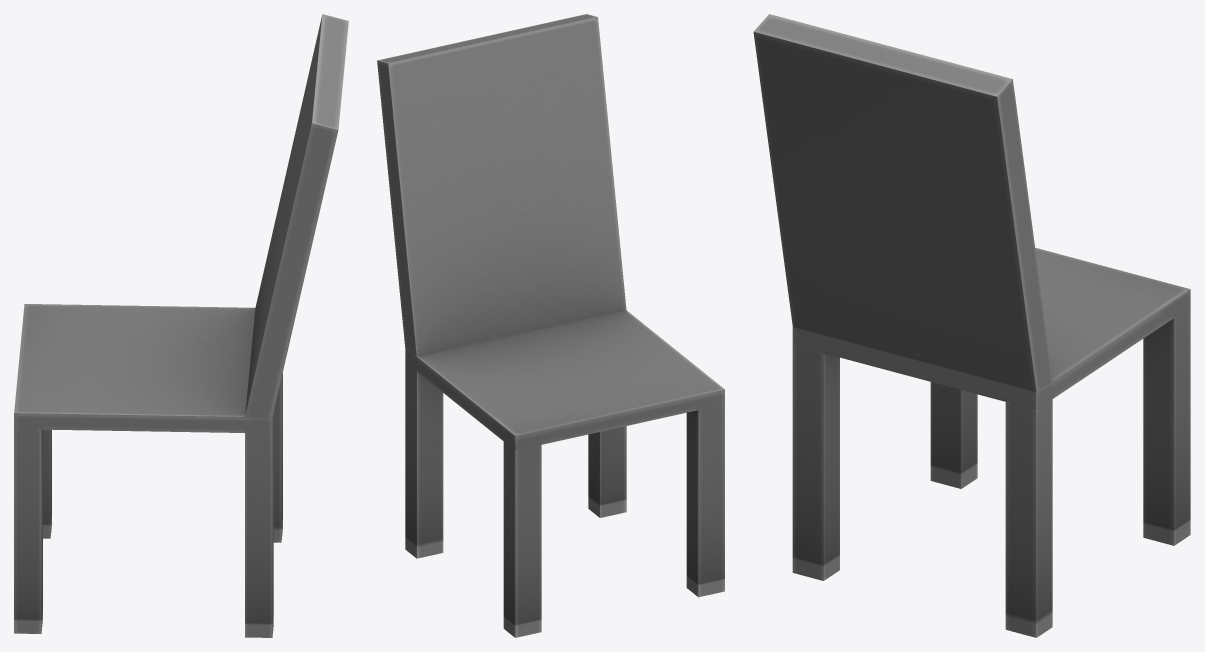
Rendered from bar_mesh.018_lev1.glb.
3 renders of one model, left to right at view 1: azimuth 30°, elevation 25°; view 2: azimuth 150°, elevation 25°; view 3: azimuth 270°, elevation 25°, orthographic. The views are drawn at different scales.
Visible parts, largest first — view 1: bar_mesh.018_lev1; view 2: bar_mesh.018_lev1; view 3: bar_mesh.018_lev1.
Part boxes in pixels (<box>): bar_mesh.018_lev1: <box>14,14,348,637</box>; bar_mesh.018_lev1: <box>377,14,724,637</box>; bar_mesh.018_lev1: <box>753,14,1190,637</box>.
Size of the model in its own units: 2.09 by 2.88 by 1.99.
Materials: 1 (1 with a texture image).
